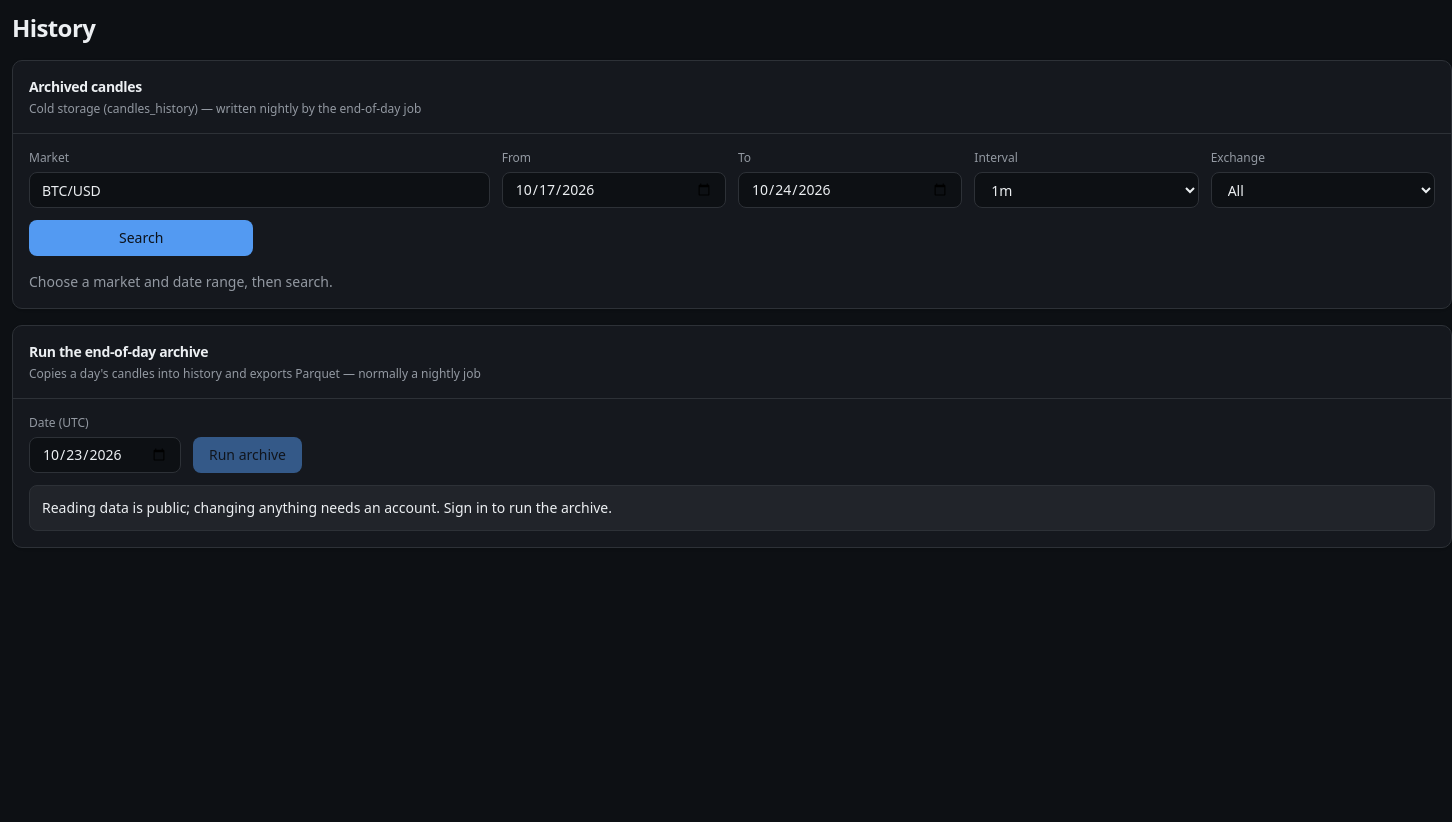
Scenario: searching archived candles › lists the rows with their source market
Click the button "Search" at x=141, y=238, box [29,220,253,256]
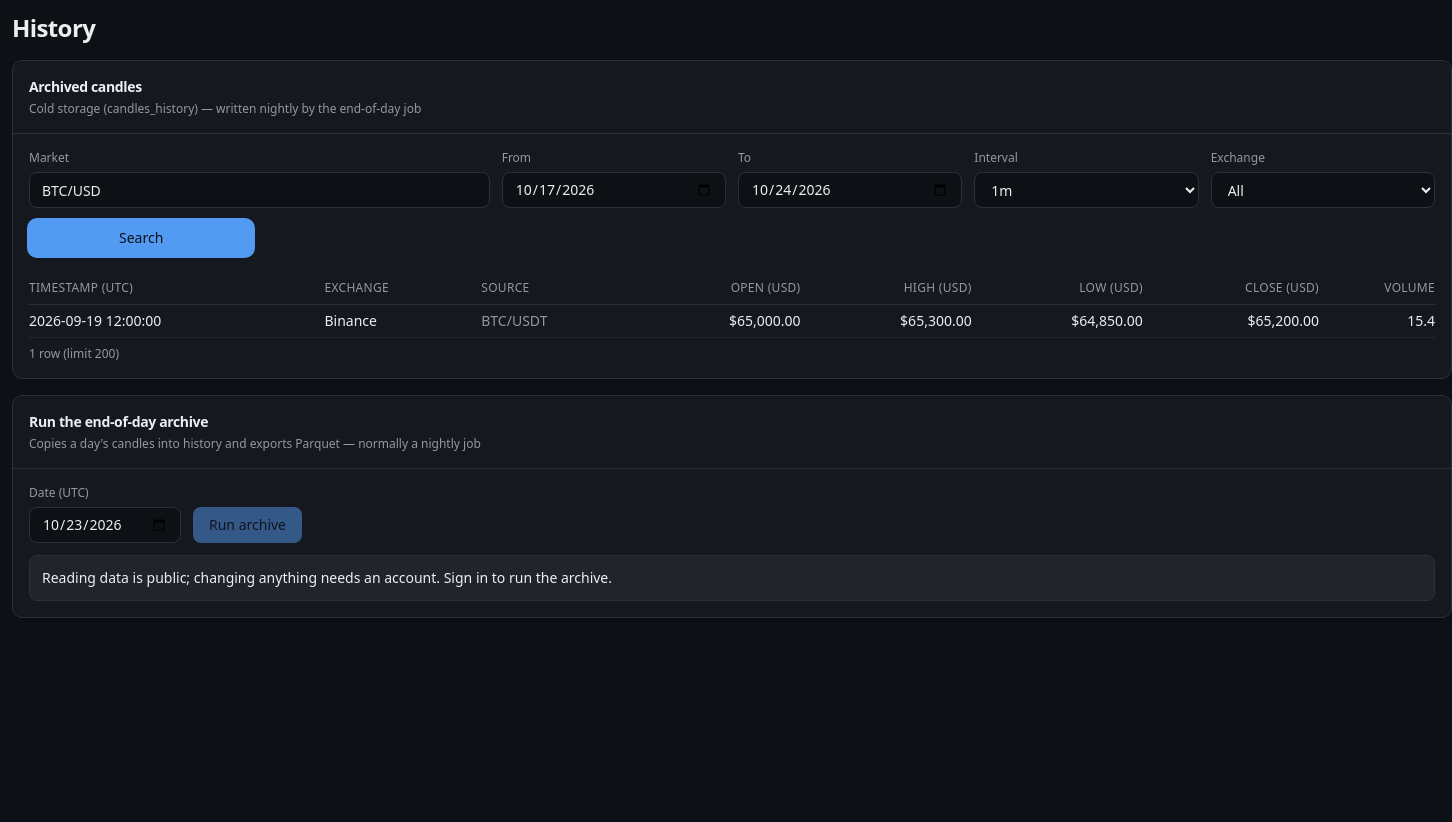
expect the text "2026-09-19 12:00:00" is shown: met, box [29,304,324,338]
expect the text "Binance" is shown: met, box [324,304,481,338]
expect the text "BTC/USDT" is shown: met, box [481,304,641,338]
